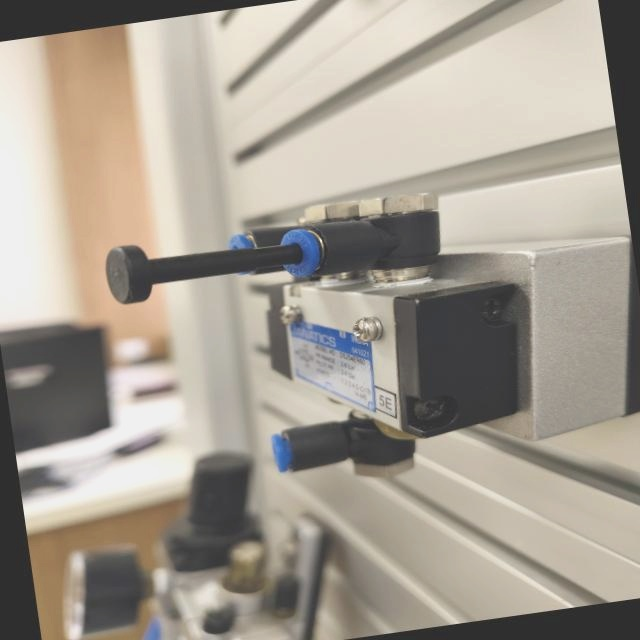5by2 DCV: (87, 145, 640, 524)
